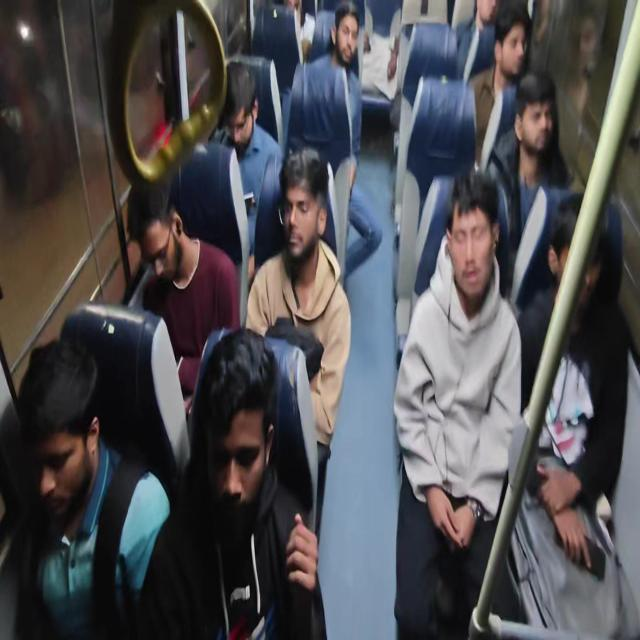person: (17, 340, 107, 528), (202, 324, 276, 537), (276, 139, 332, 277), (549, 192, 609, 318), (121, 174, 187, 287), (446, 171, 503, 299), (218, 59, 259, 149), (494, 0, 532, 94), (518, 65, 554, 151), (324, 1, 370, 66)
